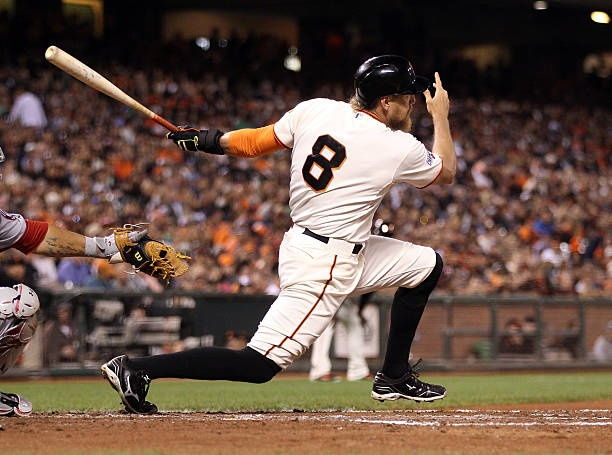bita: (41, 43, 187, 135)
